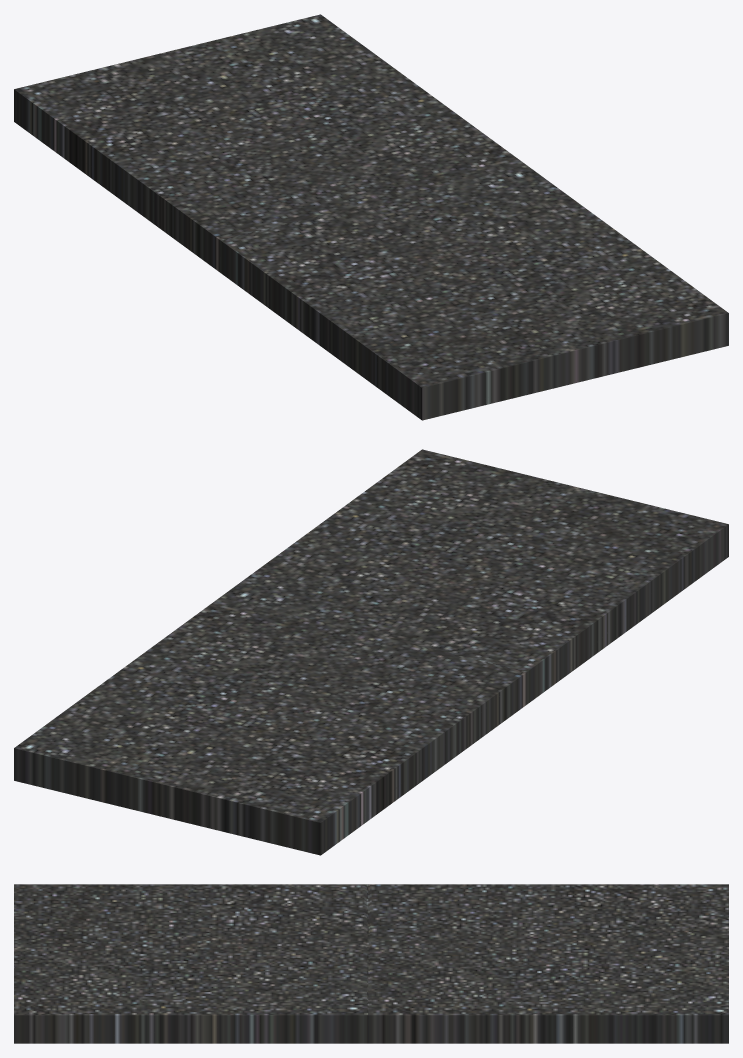
Rendered from trottoarIngenKantStor.fbx.
3 views of the same model, one above another, from view 1: azimuth 30°, elevation 25°; view 2: azimuth 150°, elevation 25°; view 3: azimuth 270°, elevation 25° (orthographic). The views are drawn at different scales.
Visible parts, largest first — view 1: polySurface9; view 2: polySurface9; view 3: polySurface9.
Boxes of the visible parts, <box> form: polySurface9: <box>14,14,728,420</box>; polySurface9: <box>14,449,728,855</box>; polySurface9: <box>14,884,728,1043</box>.
Bounding box in the file's own units: 868 × 88.06 × 2000.
